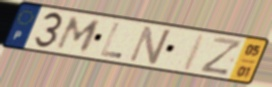3: (31, 11, 65, 51)
I: (179, 32, 208, 73)
L: (99, 21, 124, 60)
M: (53, 15, 104, 54)
N: (126, 24, 174, 67)
Z: (197, 35, 245, 77)
